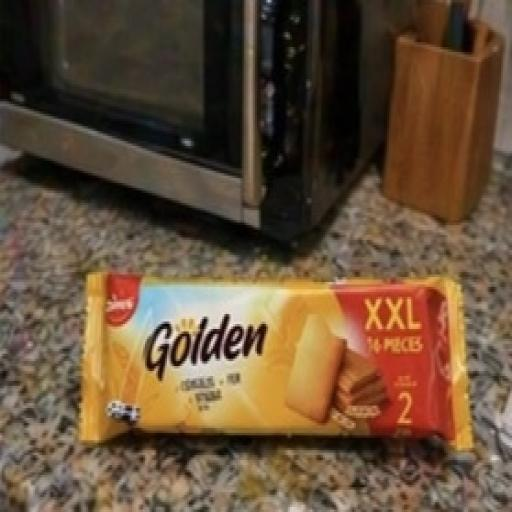golden: (63, 222, 500, 491)
